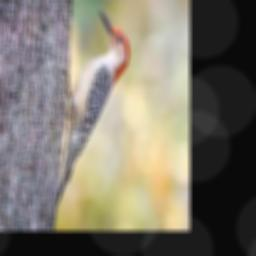Woodpecker: (56, 10, 130, 205)
